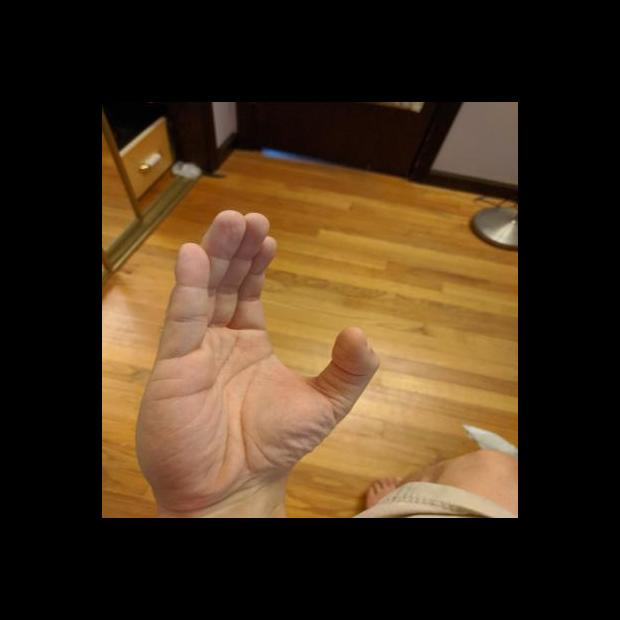B: (130, 204, 384, 510)
